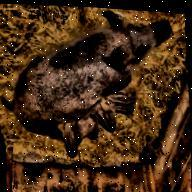boar: (0, 1, 179, 169)
